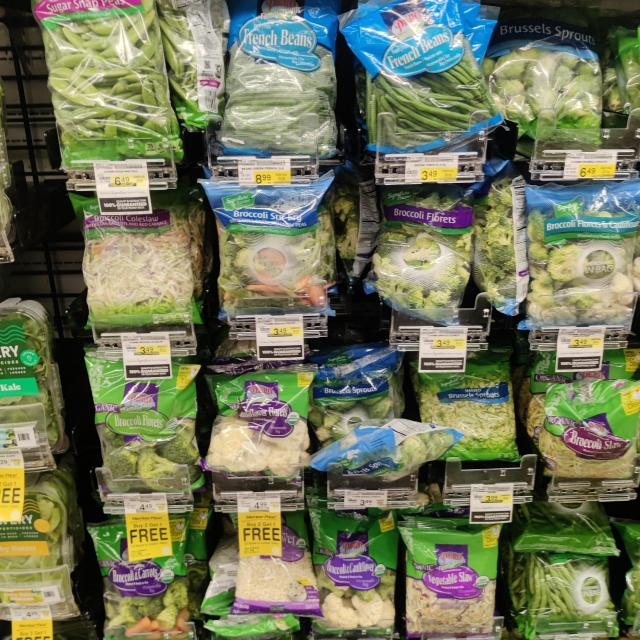Broccoli: (201, 180, 342, 323), (73, 361, 208, 508), (513, 182, 640, 334), (363, 189, 487, 321), (89, 522, 203, 640)
Brussel Sprouts: (491, 18, 617, 154), (318, 362, 434, 485)
Cauliflower: (204, 360, 320, 488), (300, 508, 409, 640)
Salad: (66, 187, 206, 328), (399, 508, 520, 640)
